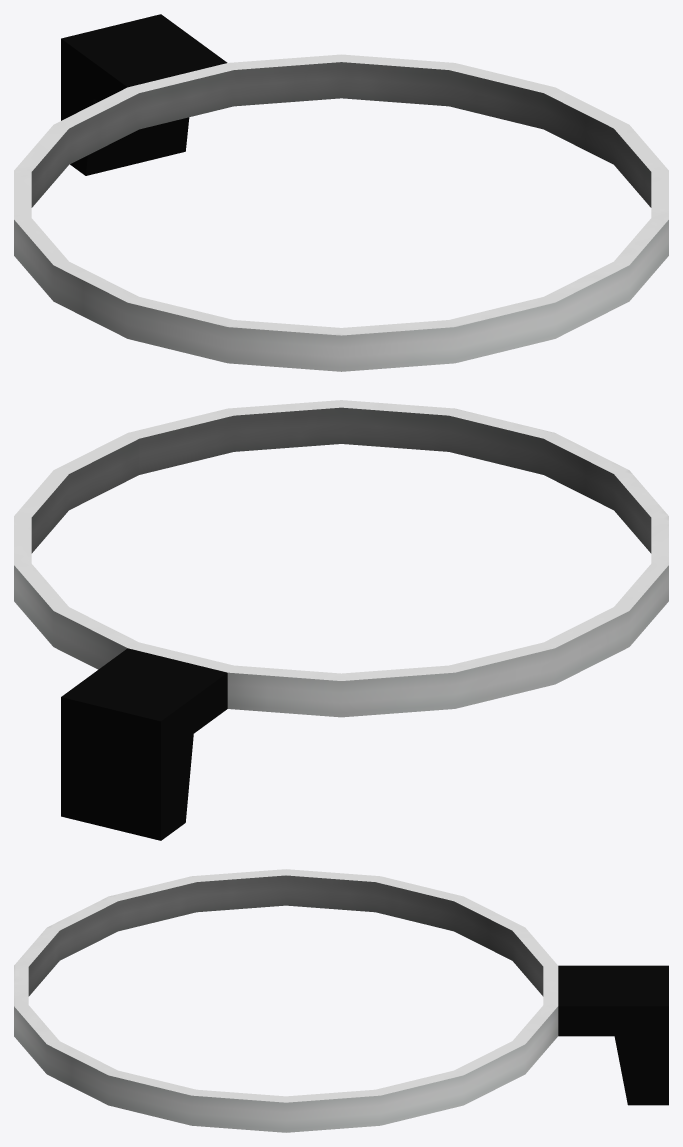
The model's file is Ring.FBX.
3 views of the same model, one above another, from view 1: azimuth 30°, elevation 25°; view 2: azimuth 150°, elevation 25°; view 3: azimuth 270°, elevation 25° (orthographic). The views are drawn at different scales.
Parts seen in each view (by area): view 1: Ring; view 2: Ring; view 3: Ring.
Boxes of the visible parts, x1=… form: Ring: x1=14, y1=14, x2=668, y2=371; Ring: x1=14, y1=400, x2=668, y2=840; Ring: x1=14, y1=869, x2=668, y2=1132.
Size of the model in its own units: 0.3276 by 0.0649 by 0.3883.
